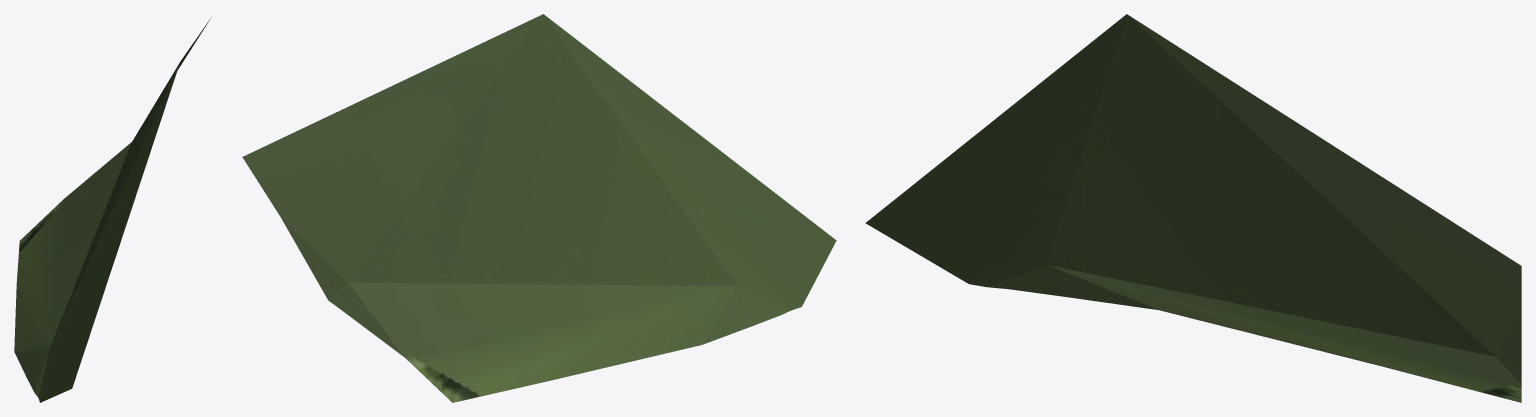
3 views of the same model, side by side, from view 1: azimuth 30°, elevation 25°; view 2: azimuth 150°, elevation 25°; view 3: azimuth 270°, elevation 25° (orthographic). The views are drawn at different scales.
Bounding box in the file's own units: 17.22 × 12.4 × 17.6.
1 material, 1 textured.
